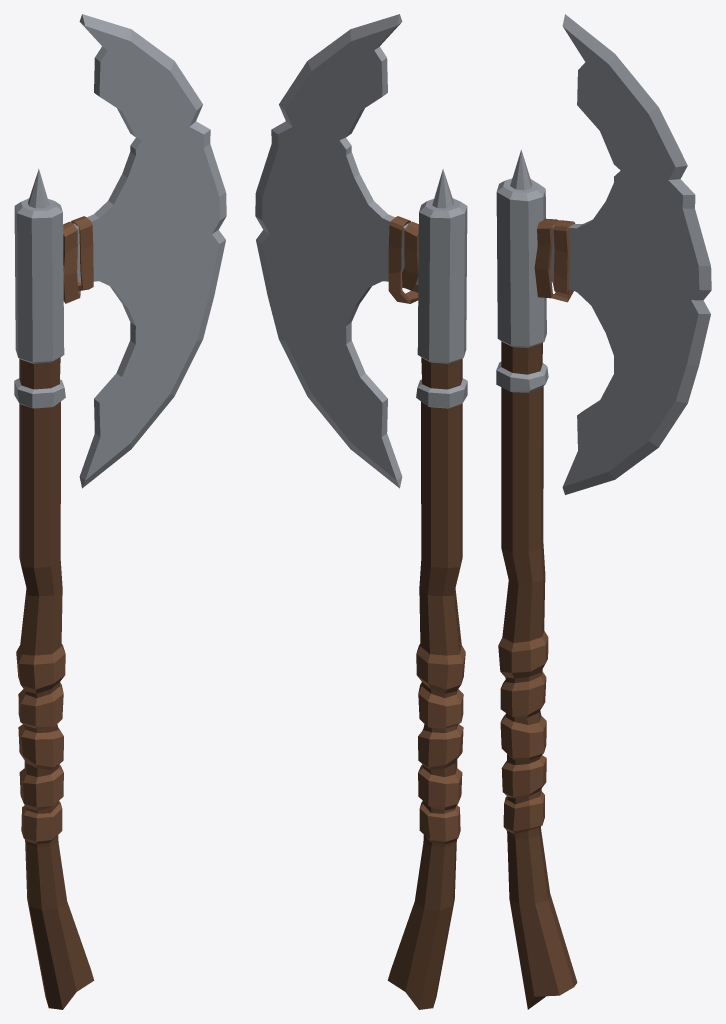
Rendered from Axe.gltf.
The picture shows the model from 3 angles, left to right: view 1: azimuth 30°, elevation 25°; view 2: azimuth 150°, elevation 25°; view 3: azimuth 330°, elevation 25°; orthographic projection.
Visible parts, largest first — view 1: Axe; view 2: Axe; view 3: Axe.
Part boxes in pixels (x1,y1,x2,y2): Axe: (14,14,226,1009); Axe: (255,14,467,1009); Axe: (496,14,711,1009).
Size of the model in its own units: 1.17 by 5.26 by 0.2483.
